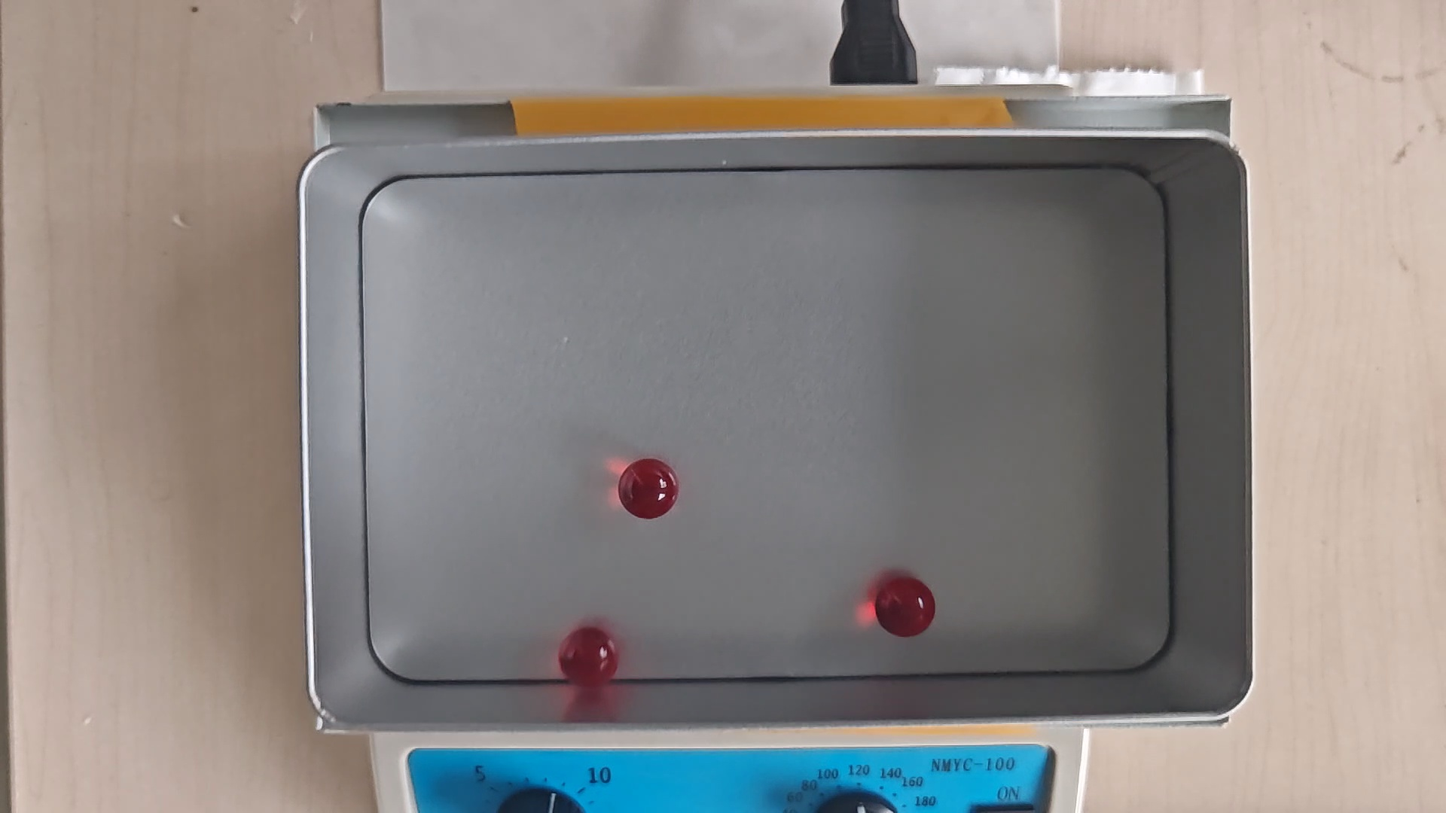ball: (618, 459, 679, 518), (877, 578, 936, 638), (560, 630, 615, 684)
container: (363, 168, 1170, 679)
